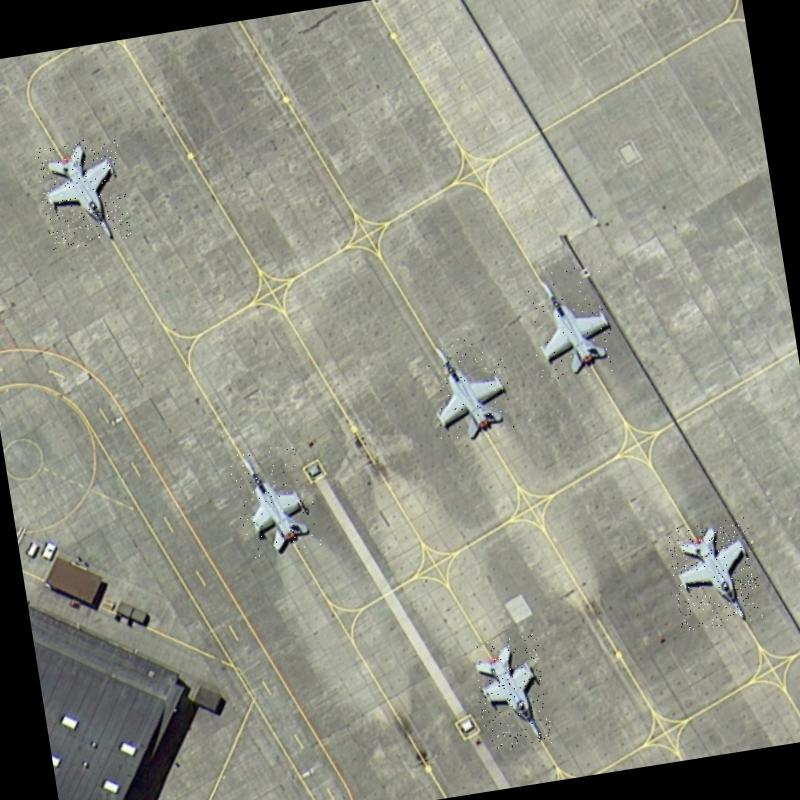A16: (522, 255, 623, 383), (33, 134, 132, 251), (665, 516, 764, 632), (227, 442, 322, 560), (422, 332, 515, 444), (470, 632, 554, 752)
